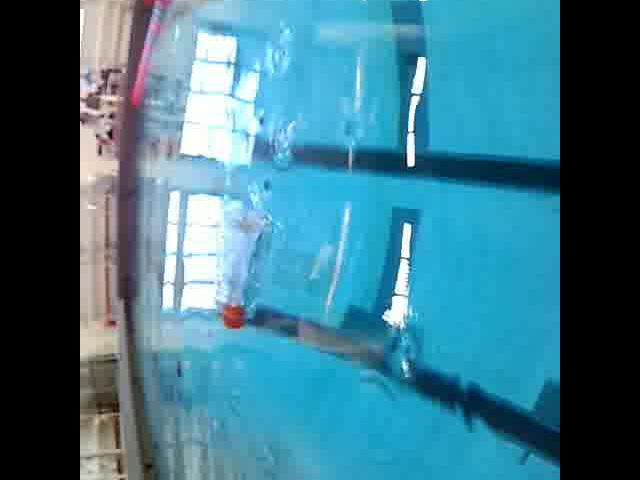Bottle: (212, 202, 268, 334)
